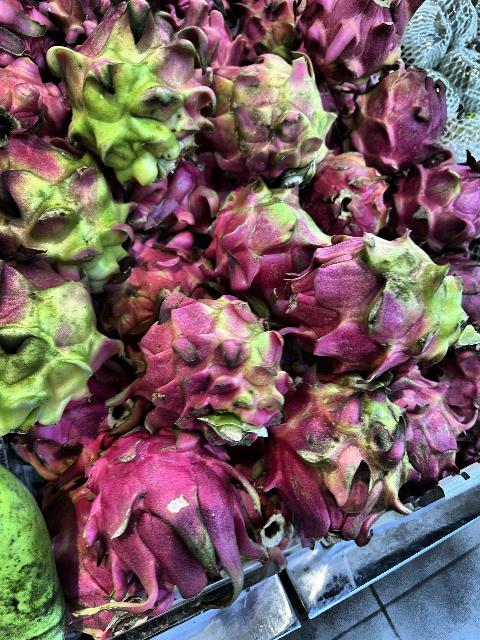buah-naga-belum-matang: (64, 5, 208, 177), (290, 238, 462, 366), (280, 374, 408, 540), (0, 131, 136, 283), (140, 294, 284, 434), (0, 255, 116, 420), (207, 51, 331, 185), (214, 172, 332, 290), (238, 0, 298, 58)
buah-naga-matang: (71, 432, 269, 592), (378, 374, 472, 492), (351, 66, 457, 162), (297, 0, 419, 80), (106, 238, 206, 316), (400, 156, 480, 242), (312, 153, 401, 229), (170, 0, 250, 66), (0, 58, 72, 128), (136, 164, 210, 232), (1, 0, 56, 68), (40, 1, 108, 34)
